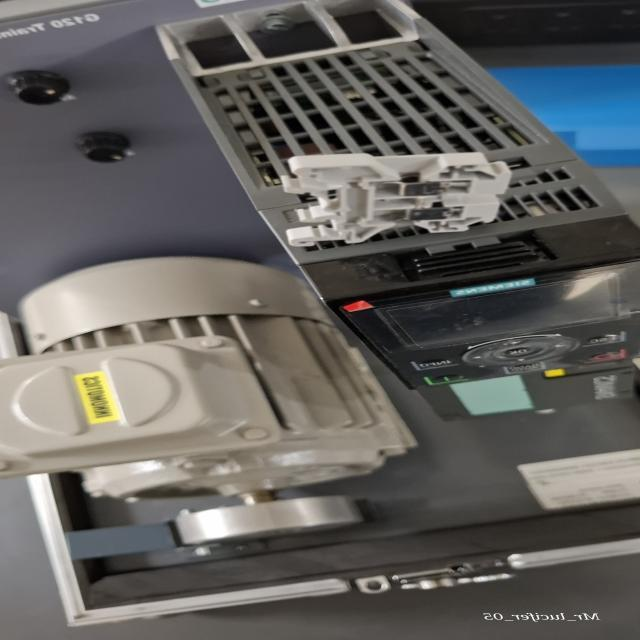Pass: (274, 145, 518, 249)
